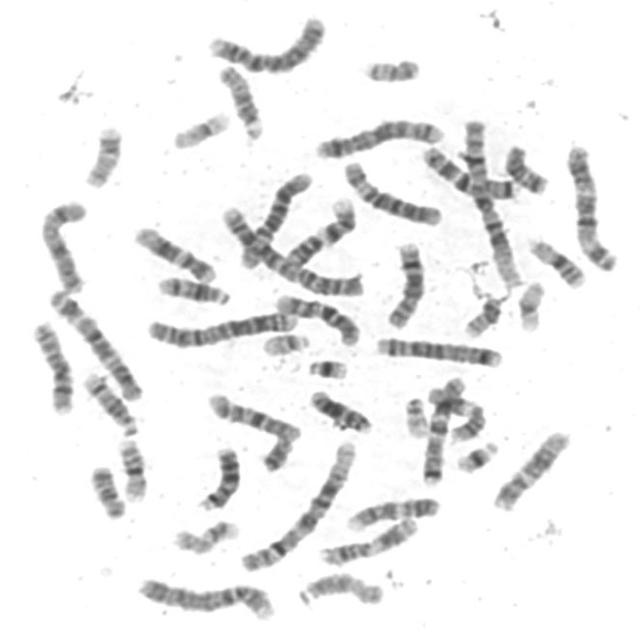A1: (234, 434, 360, 574), (456, 112, 526, 290)
A2: (215, 201, 367, 299), (141, 303, 301, 350)
A3: (41, 282, 146, 404), (560, 138, 620, 272)
B4: (200, 9, 328, 75), (131, 570, 279, 622)
B5: (309, 111, 448, 160), (369, 330, 505, 370)
C10: (200, 387, 304, 442), (269, 288, 362, 348)
C11: (313, 510, 422, 568), (422, 379, 488, 444)
C12: (487, 424, 574, 513), (127, 220, 219, 284)
C6: (234, 165, 316, 271), (337, 156, 445, 228)
C7: (416, 138, 522, 202), (417, 370, 469, 488)
C8: (25, 315, 77, 416), (381, 235, 428, 330)
C9: (279, 191, 359, 269), (340, 490, 444, 534)
D13: (303, 383, 375, 436), (191, 440, 243, 512)
D14: (77, 365, 141, 437), (151, 270, 233, 307)
D15: (212, 58, 267, 143), (292, 567, 388, 609)
E16: (522, 230, 590, 290), (110, 432, 150, 503)
E17: (166, 513, 242, 556), (78, 119, 124, 190)
E18: (498, 137, 552, 195), (84, 459, 128, 520)
F19: (166, 104, 232, 151), (512, 274, 548, 334)
F20: (457, 291, 504, 339), (358, 51, 423, 84)
G21: (449, 435, 501, 475), (302, 352, 351, 381)
G22: (256, 327, 312, 358), (398, 390, 431, 440)
X: (33, 194, 91, 296)
Y: (254, 431, 296, 473)
